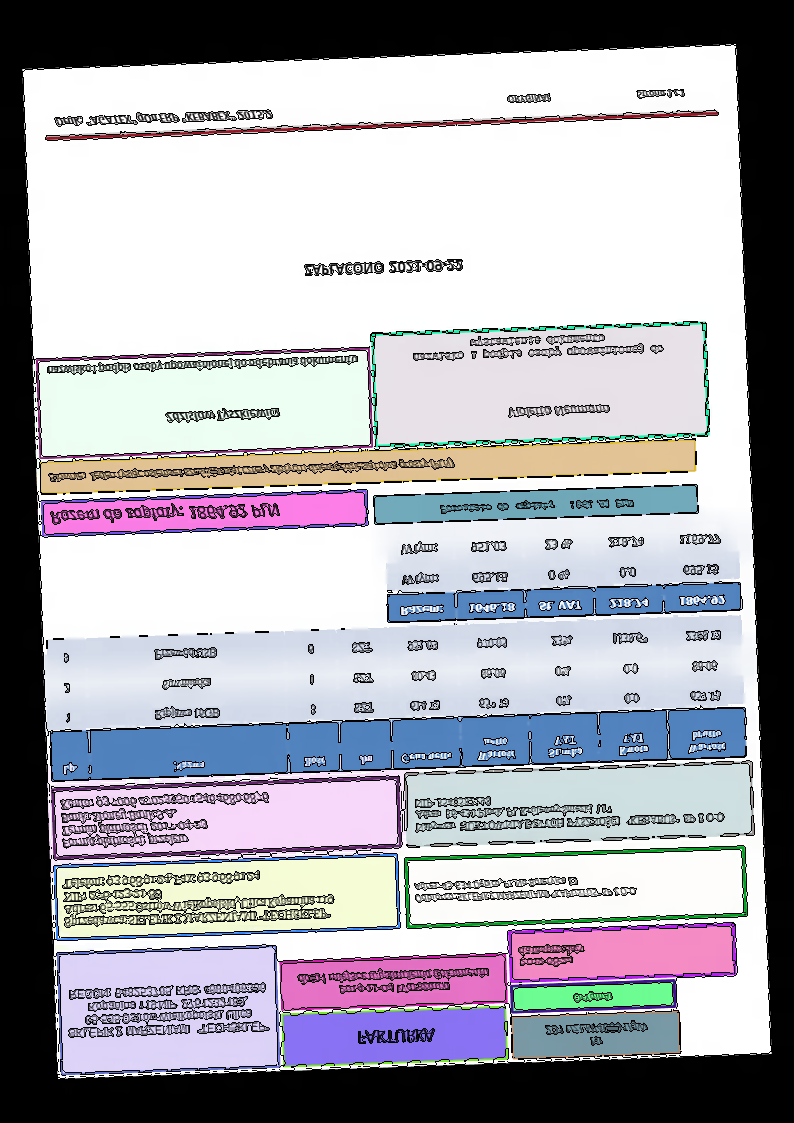Table: (44, 614, 747, 784), (382, 519, 742, 624)
TextBox: (59, 865, 338, 933), (411, 784, 728, 835), (57, 788, 274, 853), (63, 979, 270, 1042), (45, 455, 456, 486), (409, 329, 669, 366), (42, 353, 361, 380), (411, 872, 638, 908), (46, 497, 281, 528), (295, 963, 492, 999), (51, 105, 276, 132), (502, 86, 689, 108), (435, 497, 636, 517), (301, 256, 467, 280), (541, 1017, 652, 1051), (163, 405, 282, 429), (514, 939, 587, 971), (504, 401, 610, 422), (355, 1024, 438, 1047), (570, 988, 616, 1005)
